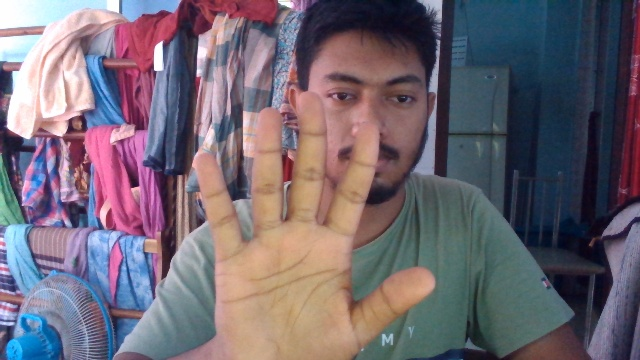hello: (168, 87, 437, 354)
